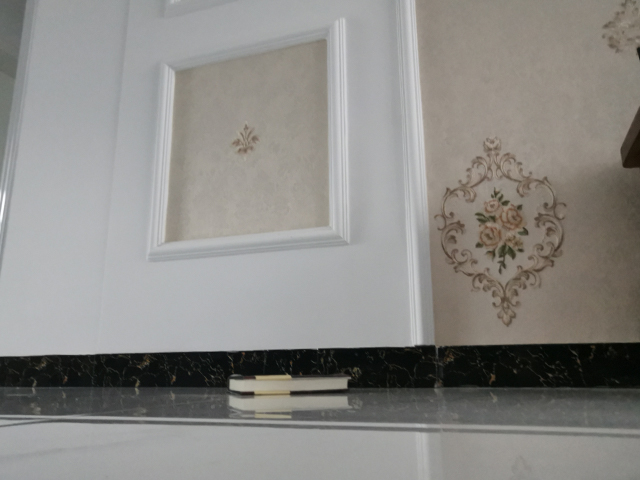book: (226, 372, 352, 397)
